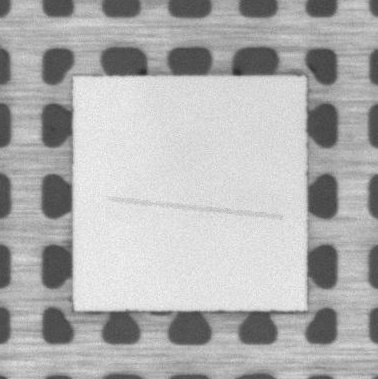DIE_CRACK: (109, 200, 281, 218)
